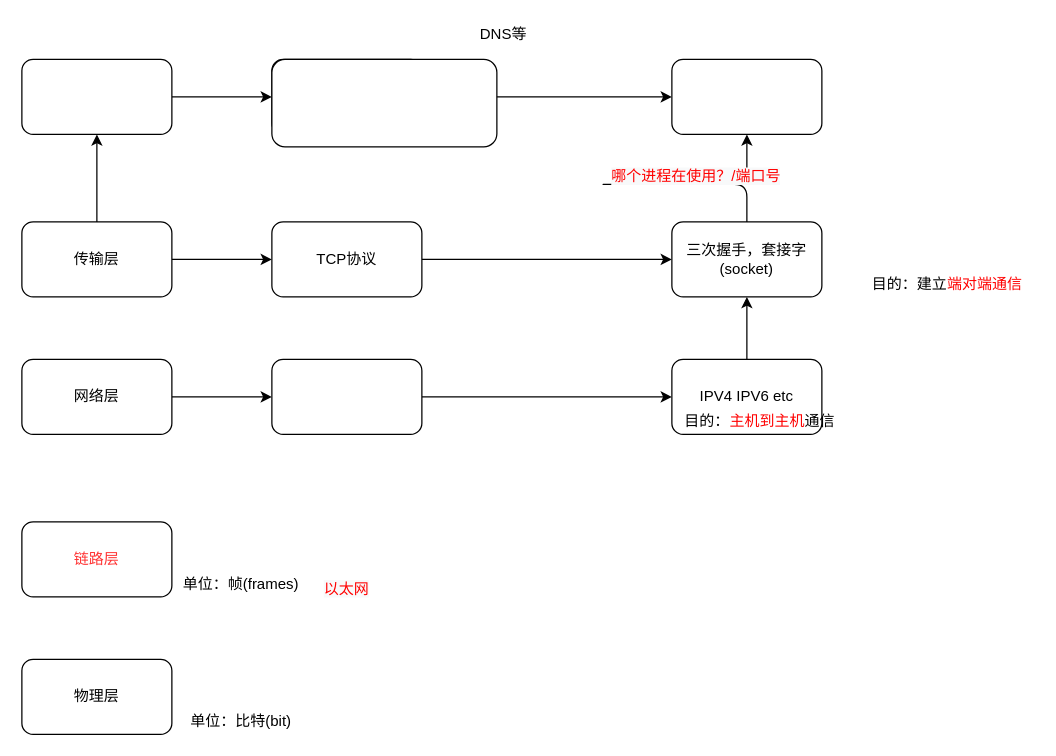
Image size: 1056x756. Some labels were removed from this diagram. The shapes that lost their labels are listed below. From the top down, each one's centre as x and y in pixels, then its label:
the point at 96,96: 应用层
the point at 384,102: =应用层（HTTP格式等） +表示层（各种格式转化为数据 被弃用） +会话层(Session)，如何展开会话
the point at 746,96: HTTP协议
the point at 346,396: IP协议 路由器协议
